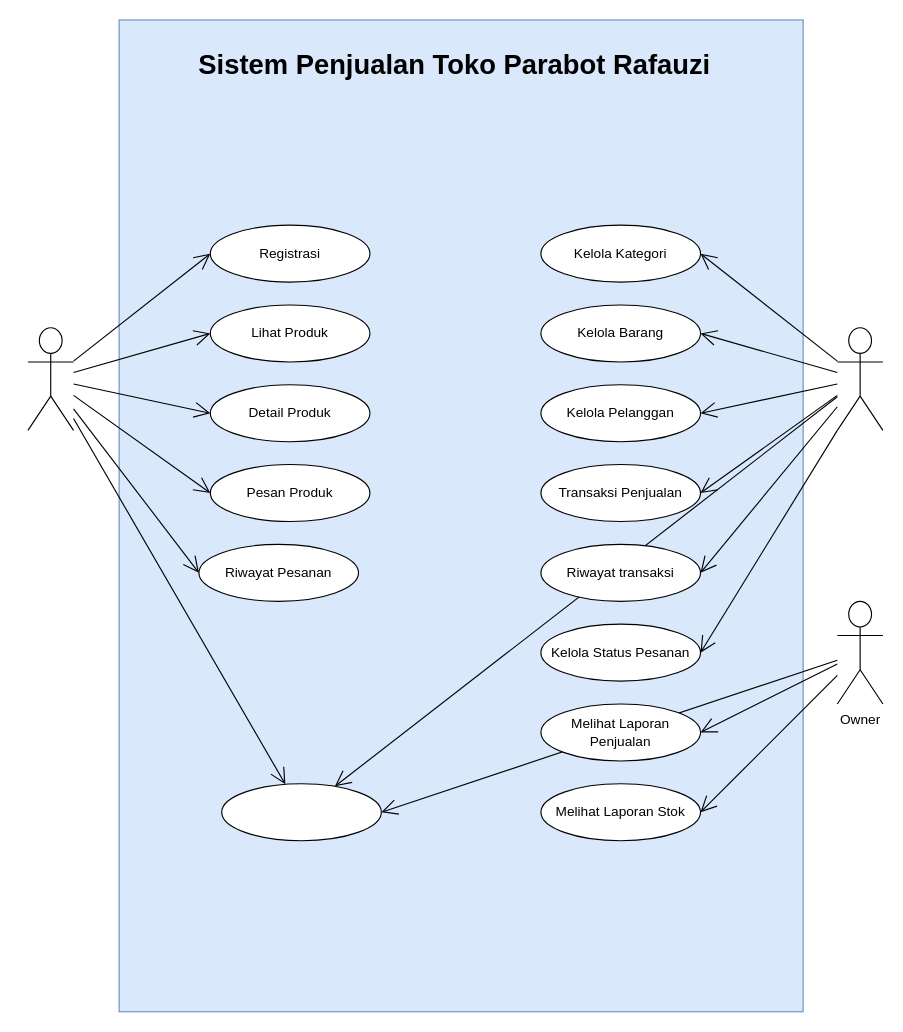
Some shapes in this 903 by 1032 pixel diagram are drawn without their labels. Here are the shapes that lost their labels. From the top down, the box of each, then its label:
(27, 327, 74, 430): Pengguna
(836, 327, 883, 430): Admin
(221, 783, 381, 841): Login
